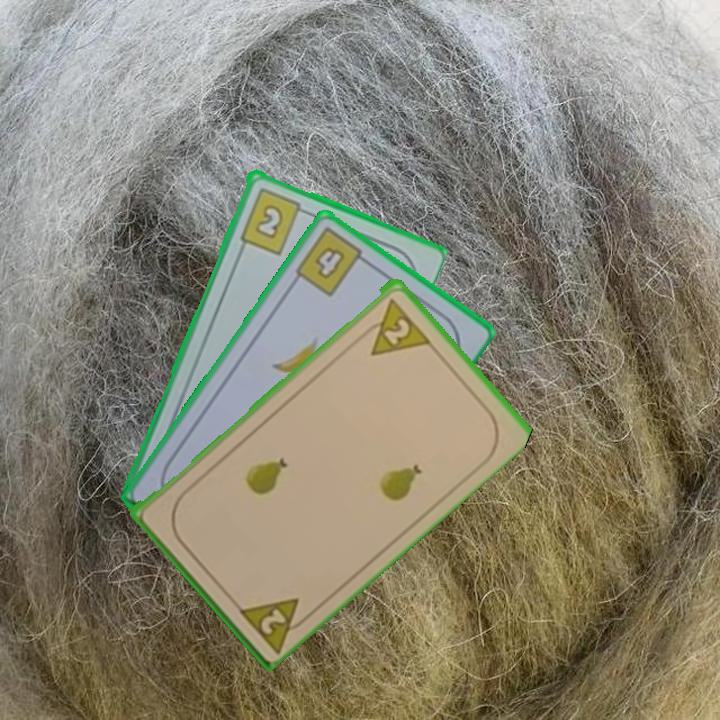2b: (235, 184, 312, 257)
2p: (355, 294, 432, 359), (233, 593, 315, 654)
4b: (291, 223, 373, 299)
